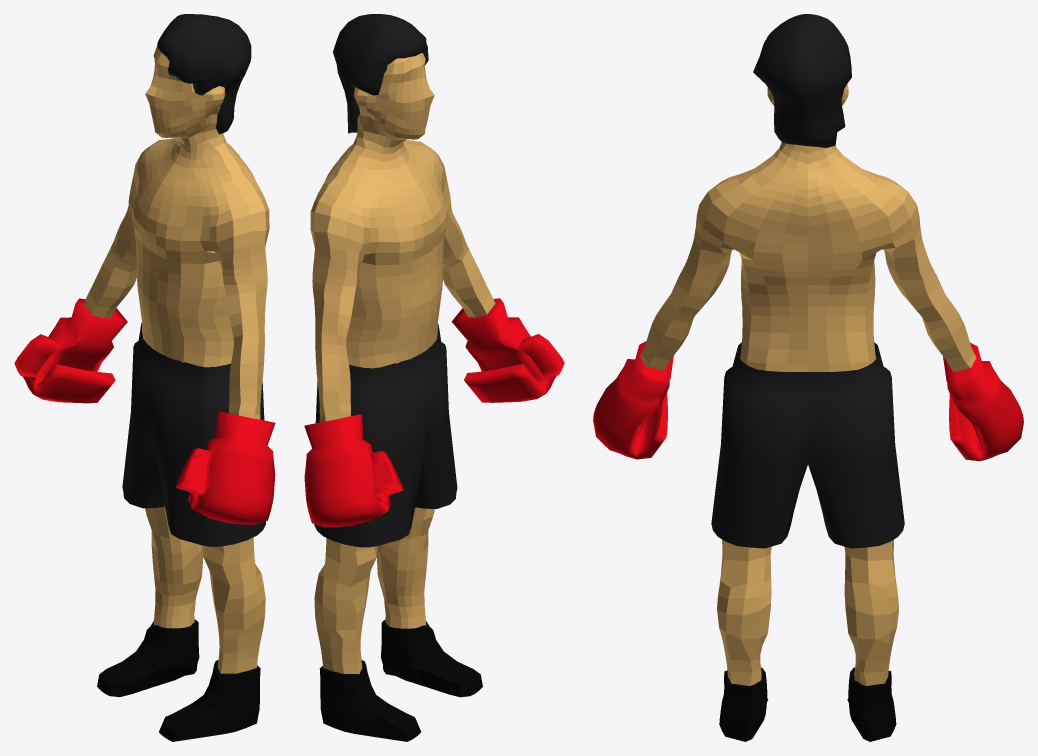
File: Jero.fbx
3 renders of one model, left to right at view 1: azimuth 30°, elevation 25°; view 2: azimuth 150°, elevation 25°; view 3: azimuth 270°, elevation 25°, orthographic. The views are drawn at different scales.
Parts seen in each view (by area): view 1: Circle.002; view 2: Circle.002; view 3: Circle.002.
Boxes of the visible parts, bbox=[...] form: Circle.002: bbox=[14, 14, 275, 741]; Circle.002: bbox=[304, 14, 564, 741]; Circle.002: bbox=[593, 14, 1023, 741].
Bounding box in the file's own units: 38.17 × 170 × 93.39.
